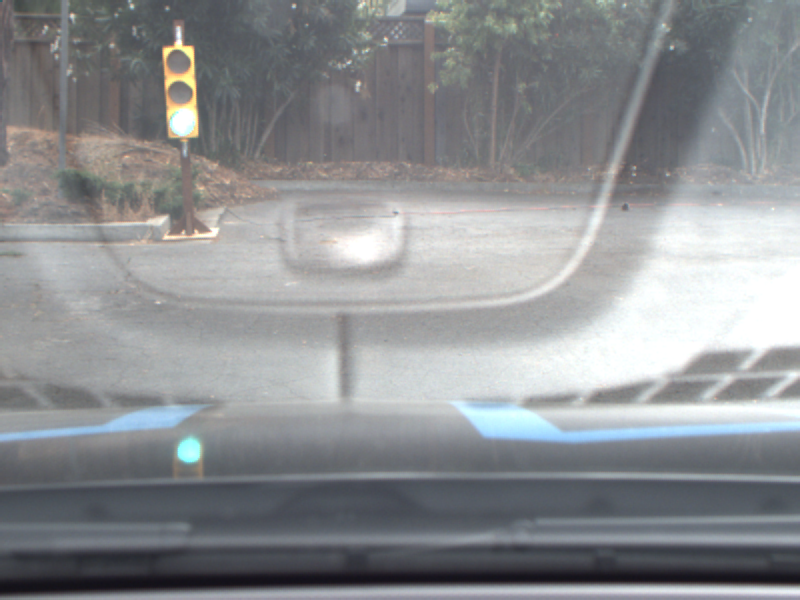green: (161, 45, 199, 139)
